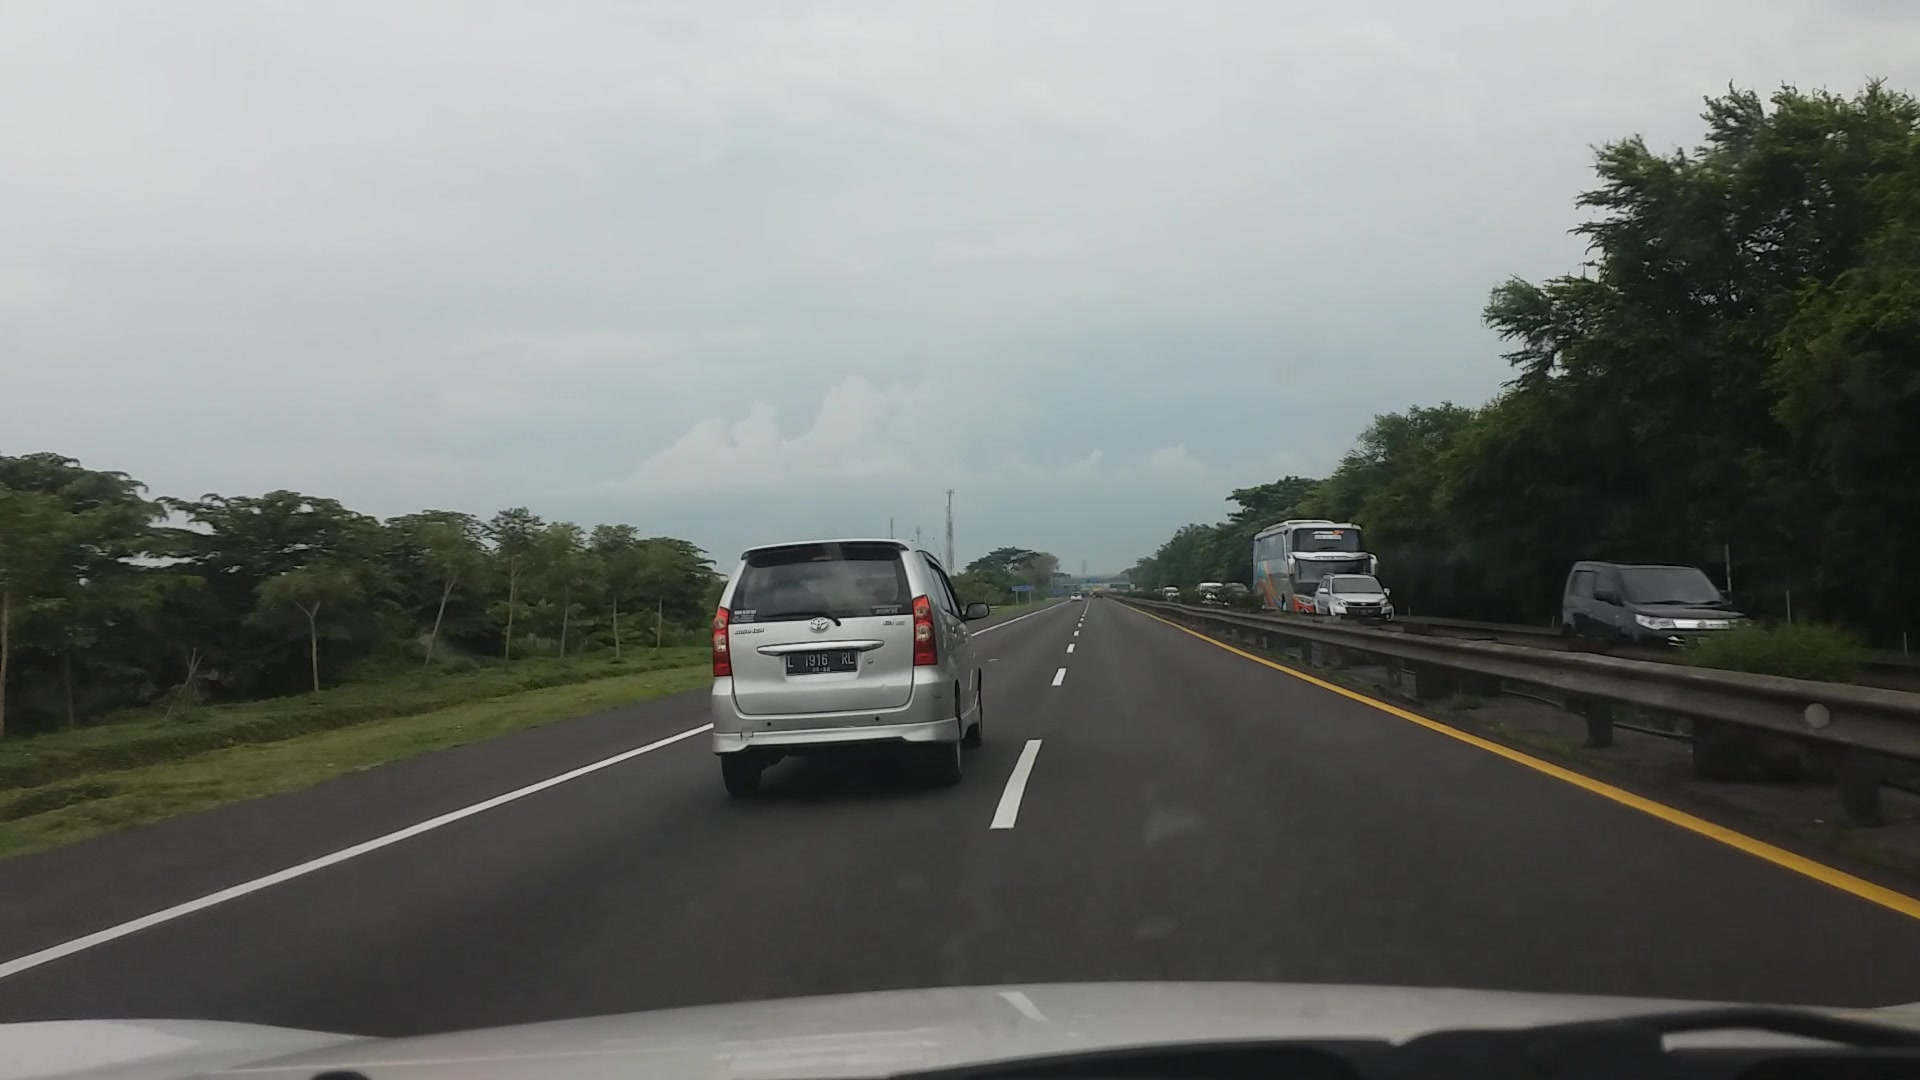plate_positive: (786, 650, 856, 675)
